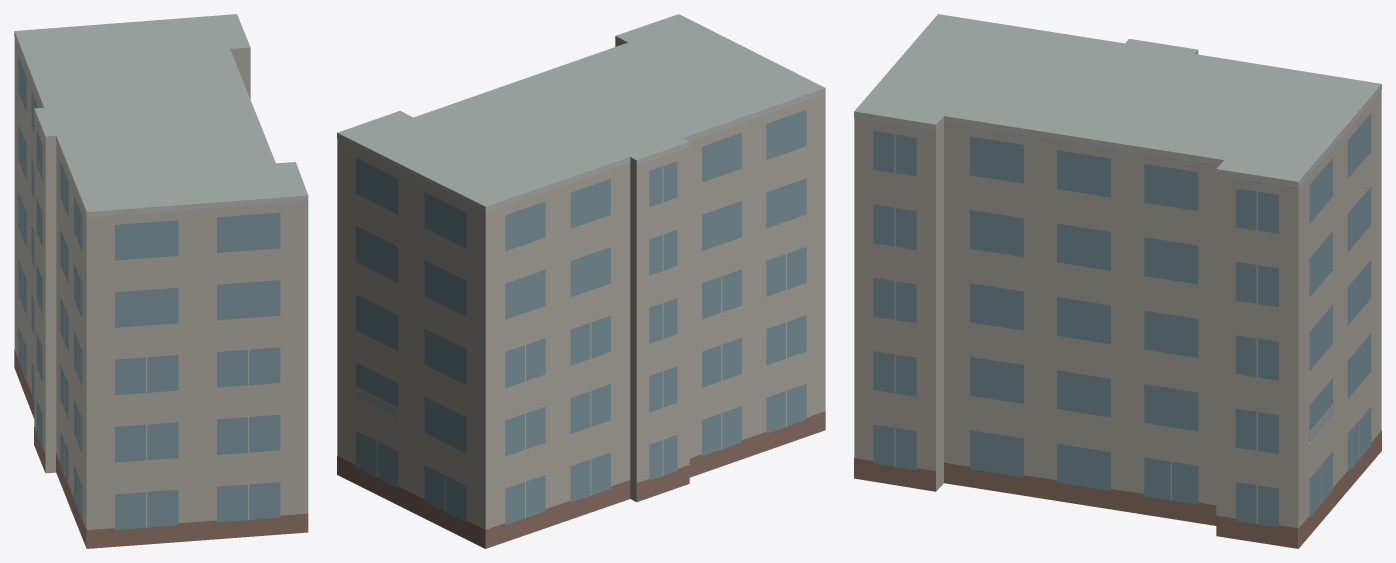
File: survey-upis-32870287.glb
The picture shows the model from 3 angles, left to right: view 1: azimuth 30°, elevation 25°; view 2: azimuth 150°, elevation 25°; view 3: azimuth 270°, elevation 25°; orthographic projection. The views are drawn at different scales.
Parts seen in each view (by area): view 1: survey-upis-32870287.tmp; view 2: survey-upis-32870287.tmp; view 3: survey-upis-32870287.tmp.
Part boxes in pixels (x1,y1,x2,y2): survey-upis-32870287.tmp: [14, 14, 308, 548]; survey-upis-32870287.tmp: [337, 14, 825, 548]; survey-upis-32870287.tmp: [854, 14, 1381, 548].
Size of the model in its own units: 14.13 by 14.4 by 18.77.
